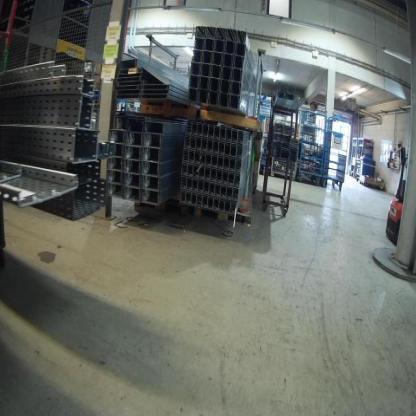pallet: (191, 206, 254, 228), (133, 197, 189, 218), (360, 180, 384, 191)
pallet_truck: (382, 140, 410, 252)
stillage: (272, 140, 299, 182), (269, 114, 300, 141)
